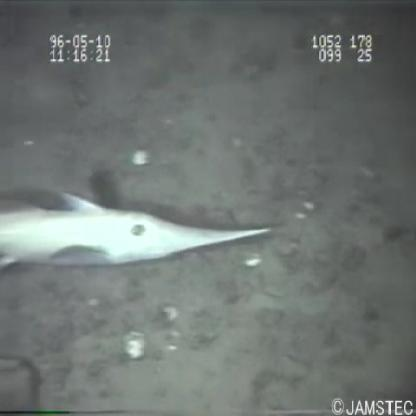Bio: (1, 185, 276, 277)
